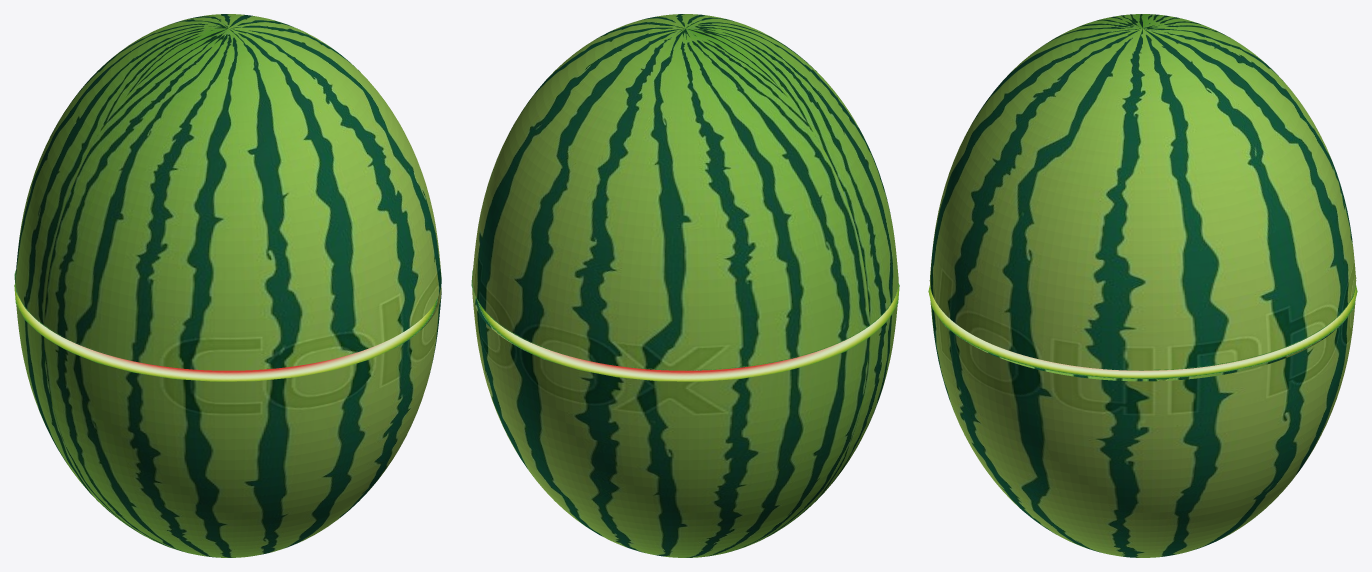
The model's file is watermelon.fbx.
The picture shows the model from 3 angles, left to right: view 1: azimuth 30°, elevation 25°; view 2: azimuth 150°, elevation 25°; view 3: azimuth 270°, elevation 25°; orthographic projection.
Parts seen in each view (by area): view 1: Sphere.001, Sphere, Sphere.002; view 2: Sphere.001, Sphere, Sphere.002; view 3: Sphere.001, Sphere, Sphere.002.
Part boxes in pixels (x1,y1,x2,y2): Sphere.001: [15, 14, 441, 370]; Sphere: [16, 287, 441, 557]; Sphere.002: [14, 284, 437, 381]; Sphere.001: [472, 14, 898, 370]; Sphere: [472, 289, 897, 557]; Sphere.002: [478, 283, 899, 381]; Sphere.001: [929, 14, 1356, 370]; Sphere: [930, 300, 1355, 557]; Sphere.002: [928, 285, 1357, 381].
Bounding box in the file's own units: 200 × 265 × 200.
2 materials, 2 textured.
